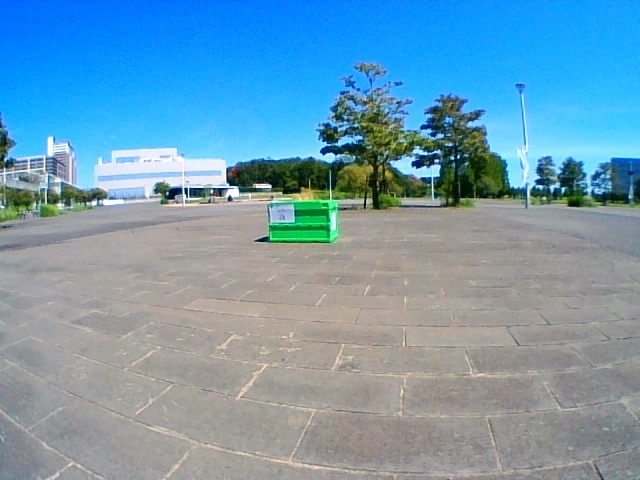green_box: (268, 200, 338, 243)
tag: (270, 204, 294, 223)
